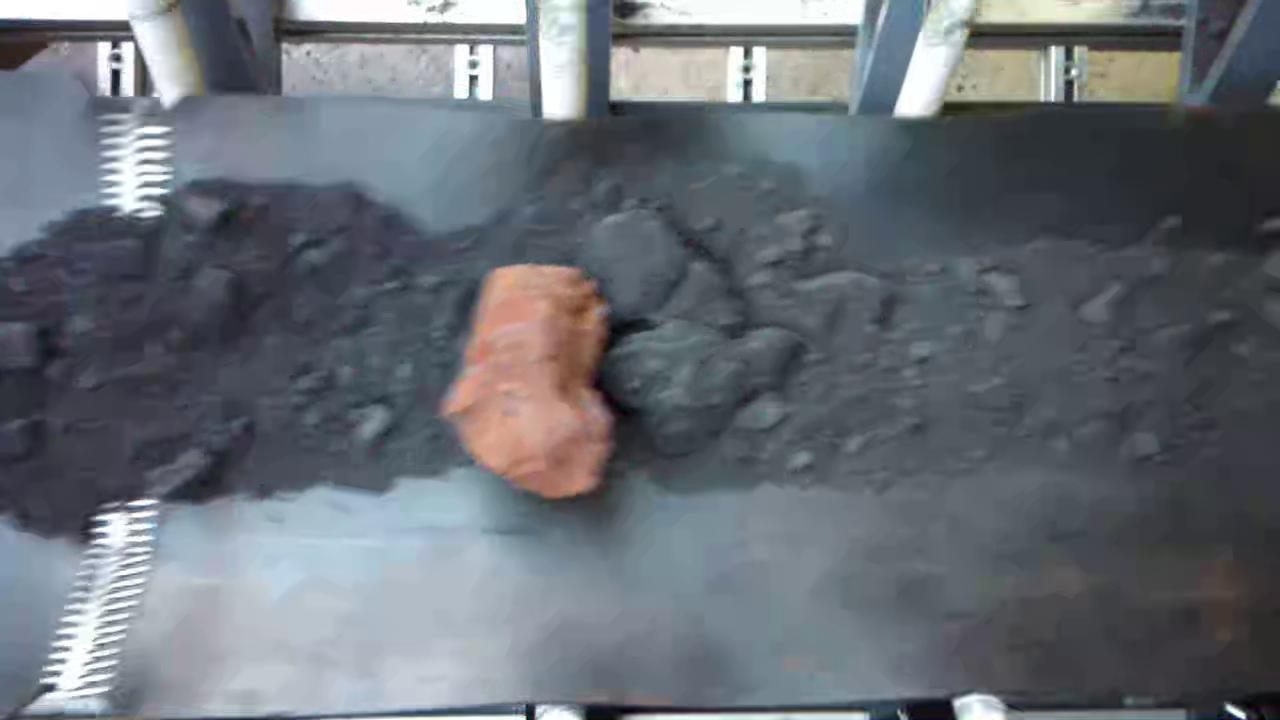conveyor: (0, 123, 1280, 693)
